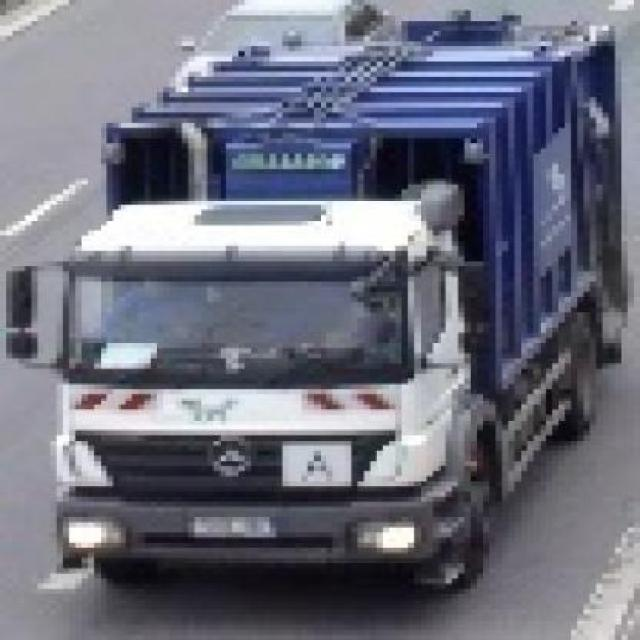truck: (1, 6, 635, 590)
